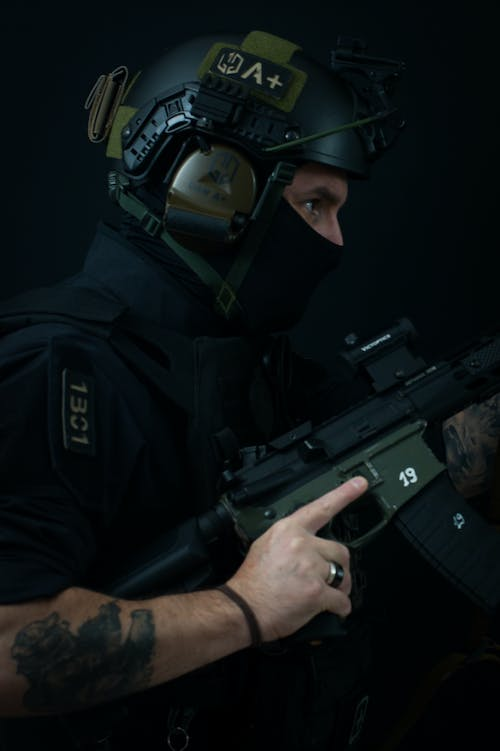gun: (91, 308, 500, 610)
